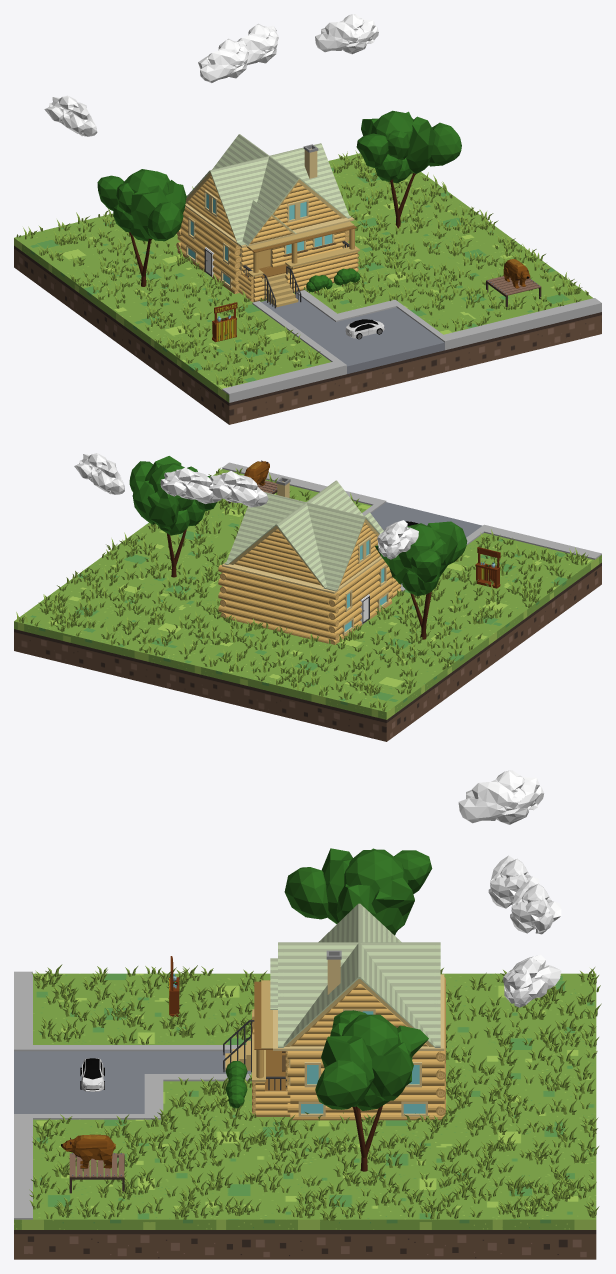
3 views of the same model, one above another, from view 1: azimuth 30°, elevation 25°; view 2: azimuth 150°, elevation 25°; view 3: azimuth 270°, elevation 25° (orthographic). The views are drawn at different scales.
Parts seen in each view (by area): view 1: Cube.006, Cube.1516, Circle.012_Grass_0.192, Cube.007, tree, tree.001, OBJRANDOM_LEMONADE_STAND, Cube.009, VEHICLES_TESLA, ANIMAL_OSO; view 2: Cube.006, Cube.1516, Circle.012_Grass_0.192, Cube.007, tree.001, tree, OBJRANDOM_LEMONADE_STAND, ANIMAL_OSO; view 3: Cube.006, Circle.012_Grass_0.192, Cube.1516, tree, Cube.007, tree.001, Cube.009, ANIMAL_OSO, VEHICLES_TESLA.
Part boxes in pixels (x1,y1,x2,y2): Cube.006: (14,153,601,424); Cube.1516: (176,134,359,308); Circle.012_Grass_0.192: (16,150,588,386); Cube.007: (44,14,378,136); tree: (356,110,461,228); tree.001: (97,169,186,286); OBJRANDOM_LEMONADE_STAND: (212,302,237,342); Cube.009: (486,276,541,306); VEHICLES_TESLA: (345,319,384,339); ANIMAL_OSO: (503,259,530,288); Cube.006: (14,462,601,741); Cube.1516: (218,477,401,644); Circle.012_Grass_0.192: (16,468,588,711); Cube.007: (74,453,418,559); tree.001: (375,521,467,639); tree: (129,456,216,577); OBJRANDOM_LEMONADE_STAND: (475,547,500,588); ANIMAL_OSO: (244,460,269,485); Cube.006: (14,971,596,1259); Circle.012_Grass_0.192: (29,964,601,1220); Cube.1516: (223,903,445,1120); tree: (315,1010,428,1171); Cube.007: (458,770,561,1007); tree.001: (284,848,432,935); Cube.009: (69,1153,124,1193); ANIMAL_OSO: (61,1134,115,1168); VEHICLES_TESLA: (80,1058,104,1091).
Size of the model in its own units: 4071 by 2153 by 4040.
42 materials, 4 textured.
